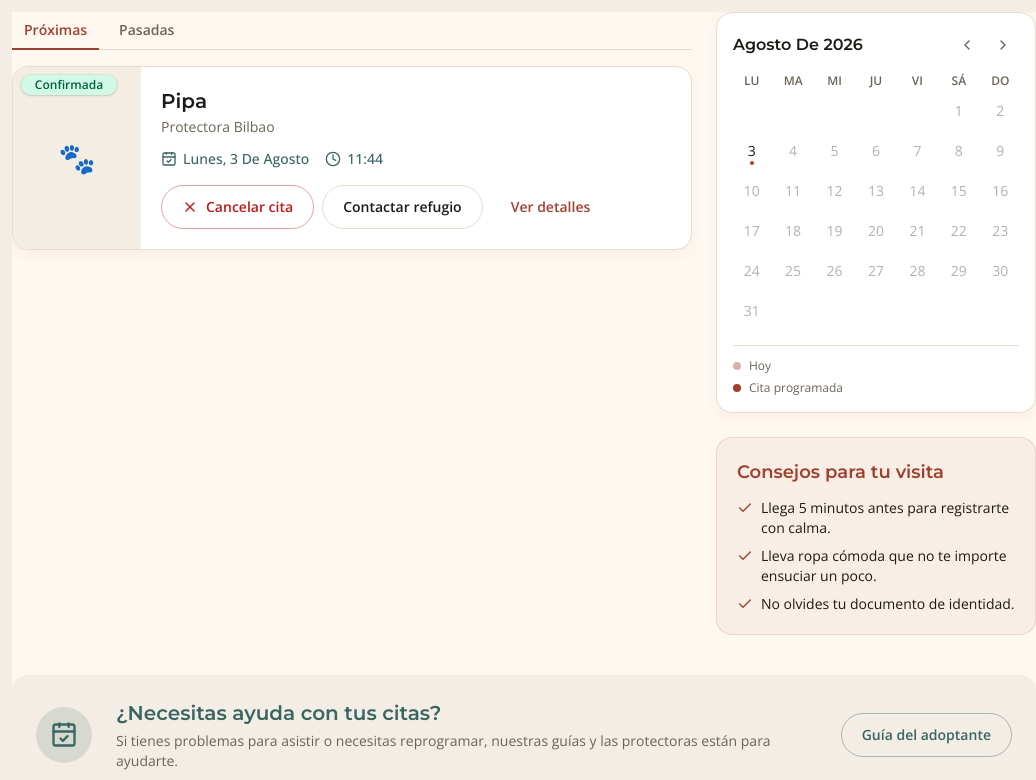
Scenario: MisCitasCliente › al cambiar a la pestaña Pasadas muestra las pasadas y oculta las próximas
This screenshot has width=1036, height=780.
Click the tab "Pasadas".
click(147, 31)  # box [107,12,186,50]
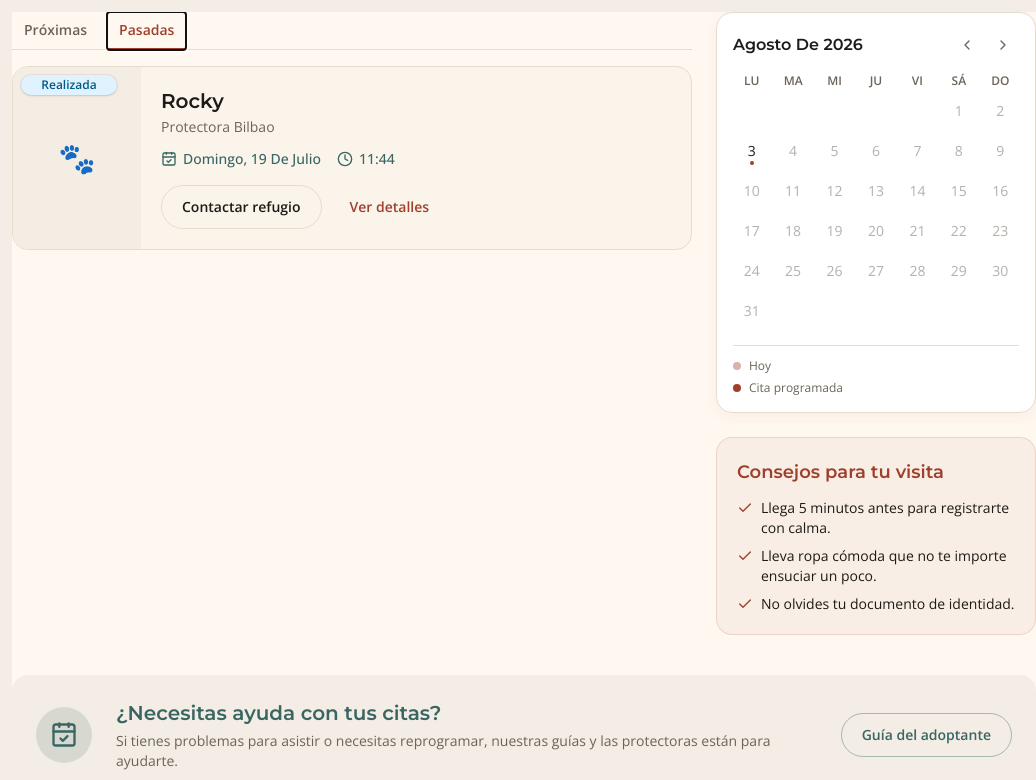
Result: the link "Rocky" is shown at [161,89,224,113]
Result: the link "Pipa" is gone
